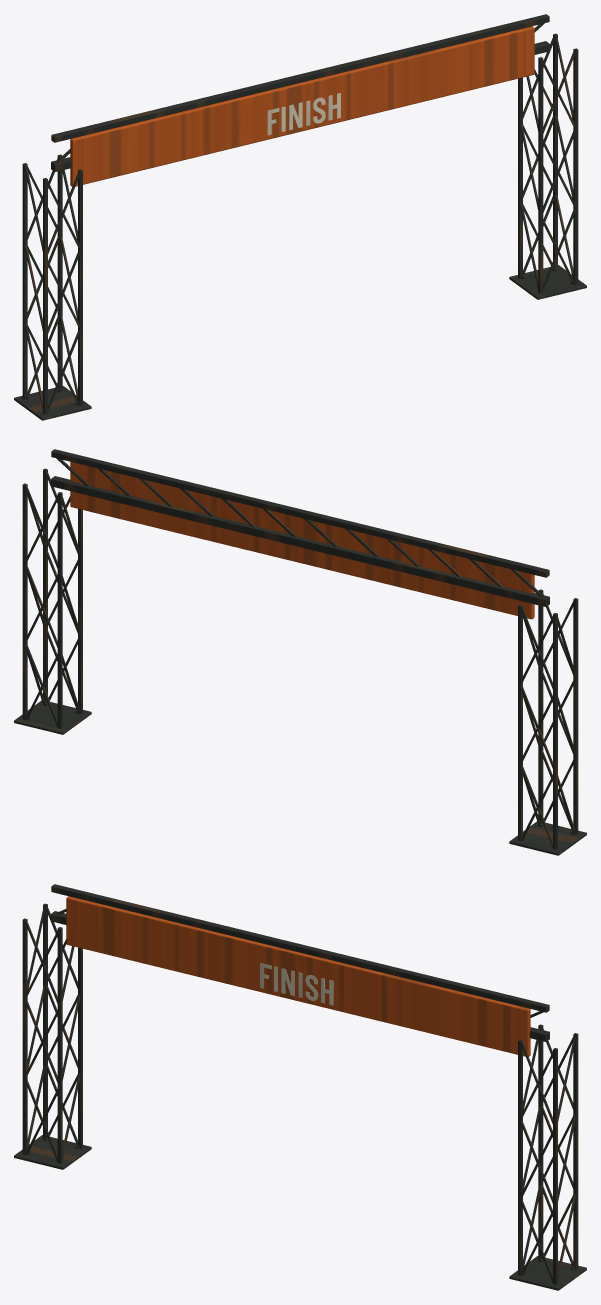
File: finish-gantry-lod.obj
3 views of the same model, one above another, from view 1: azimuth 30°, elevation 25°; view 2: azimuth 150°, elevation 25°; view 3: azimuth 330°, elevation 25° (orthographic).
Parts seen in each view (by area): view 1: finish-gantry.001; view 2: finish-gantry.001; view 3: finish-gantry.001.
Part boxes in pixels (x1,y1,x2,y2): finish-gantry.001: [14, 14, 586, 420]; finish-gantry.001: [14, 449, 586, 855]; finish-gantry.001: [14, 884, 586, 1290].
Size of the model in its own units: 13.2 by 6.23 by 1.2.
1 material, 1 textured.
